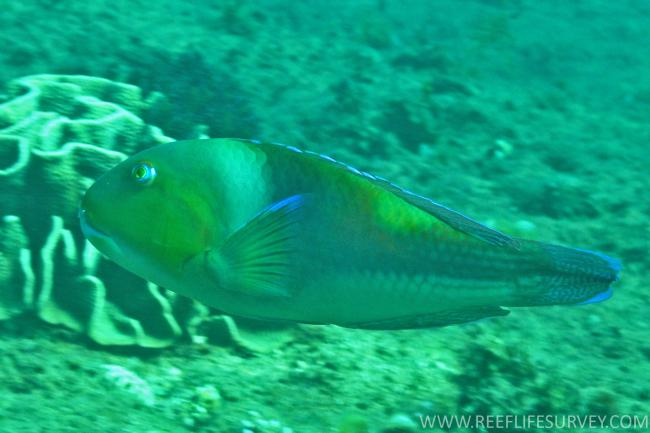fish: (80, 138, 622, 329)
